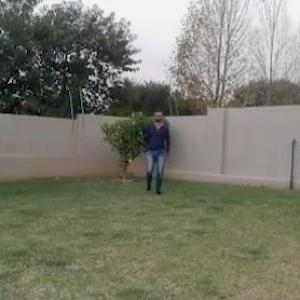follow: (145, 111, 166, 199)
